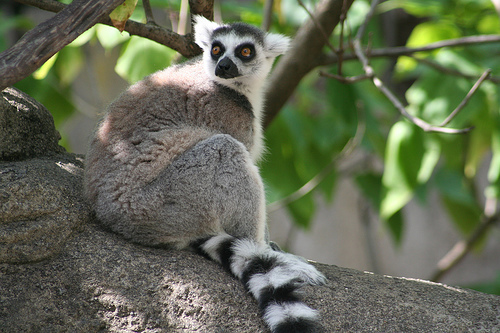cat: (79, 11, 325, 331)
